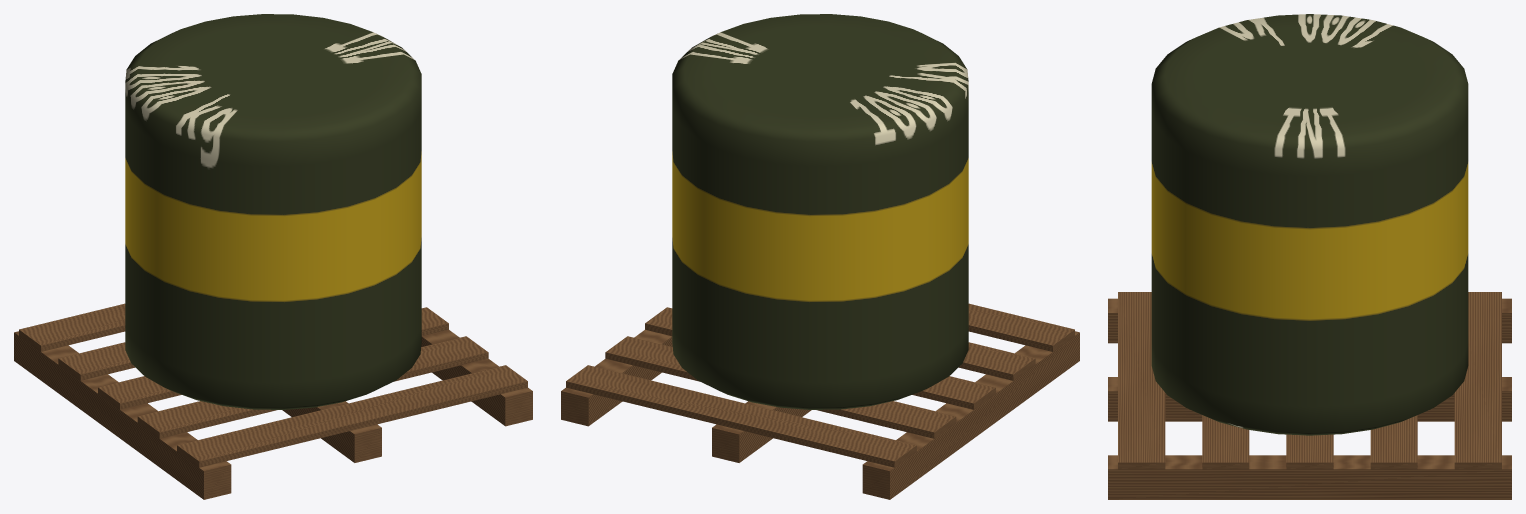
File: tntDrum_L1.glb
The picture shows the model from 3 angles, left to right: view 1: azimuth 30°, elevation 25°; view 2: azimuth 150°, elevation 25°; view 3: azimuth 270°, elevation 25°; orthographic projection. The views are drawn at different scales.
Parts seen in each view (by area): view 1: drum, pallet:pallet; view 2: drum, pallet:pallet; view 3: drum, pallet:pallet.
Part boxes in pixels (<box>): drum: <box>125,14,421,409</box>; pallet:pallet: <box>14,303,532,499</box>; drum: <box>672,14,968,409</box>; pallet:pallet: <box>561,303,1079,499</box>; drum: <box>1151,14,1468,435</box>; pallet:pallet: <box>1108,292,1511,499</box>.
Bounding box in the file's own units: 1.2 × 1.11 × 1.2.
2 materials, 2 textured.
